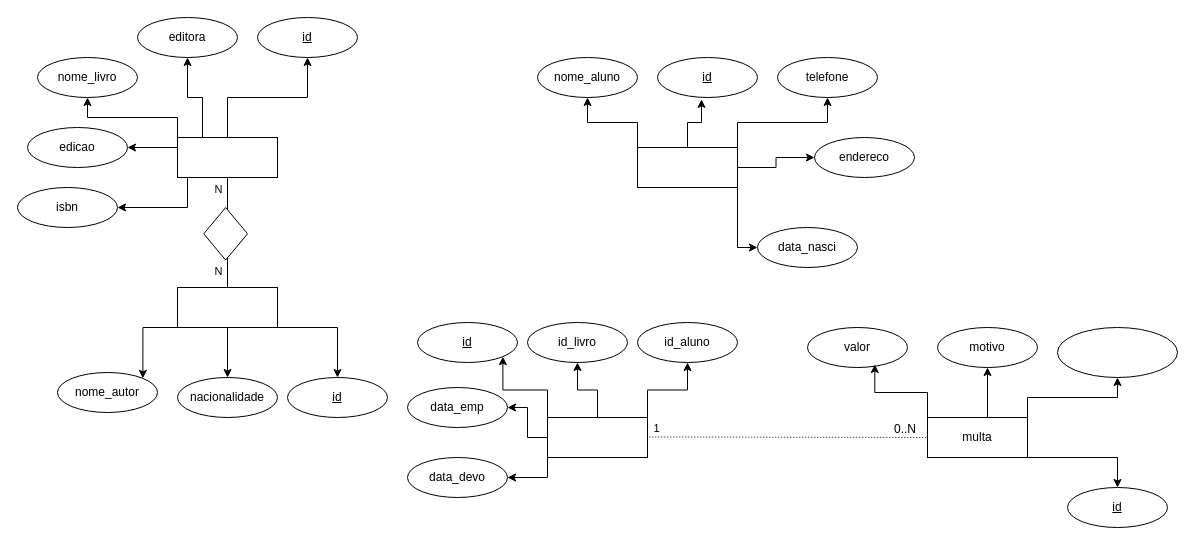
This 1195x545 diagram has some shape labels left out. The centre of each missing label's shape, as x and y in pixels:
"Aluno" goes at [687,167].
"autor" goes at [227,307].
"autoria" goes at [225,233].
"Emprestimo" goes at [597,437].
"Livro" goes at [227,157].
"status_pagamento" goes at [1117,352].
